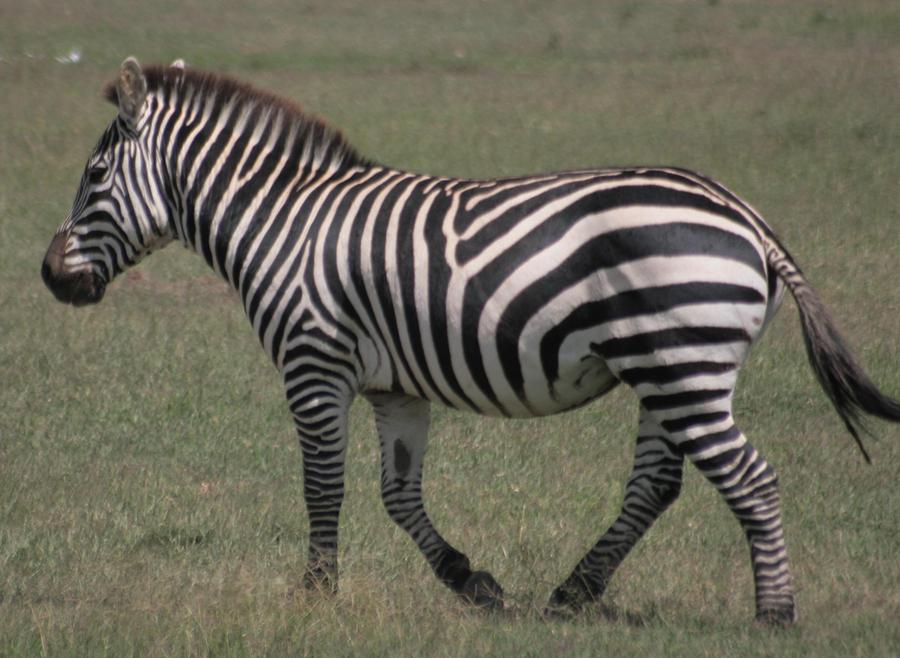zebra_plains: (260, 150, 736, 426)
